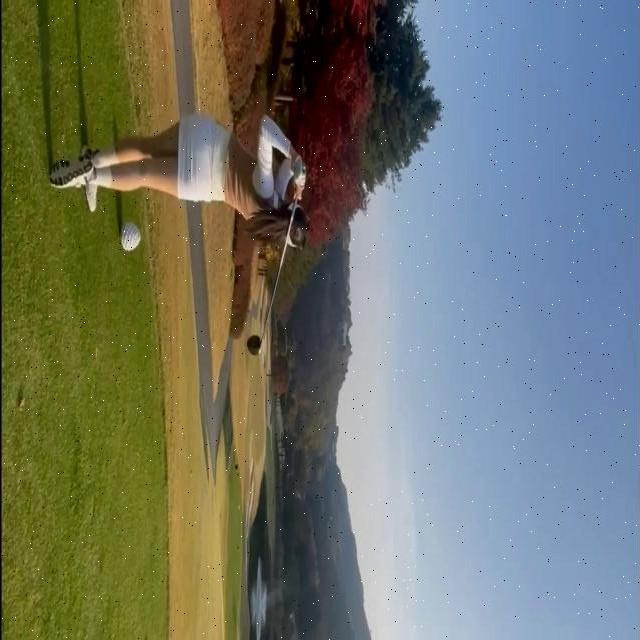golf club-handle: (246, 163, 304, 355)
golf club-head: (246, 335, 260, 356)
